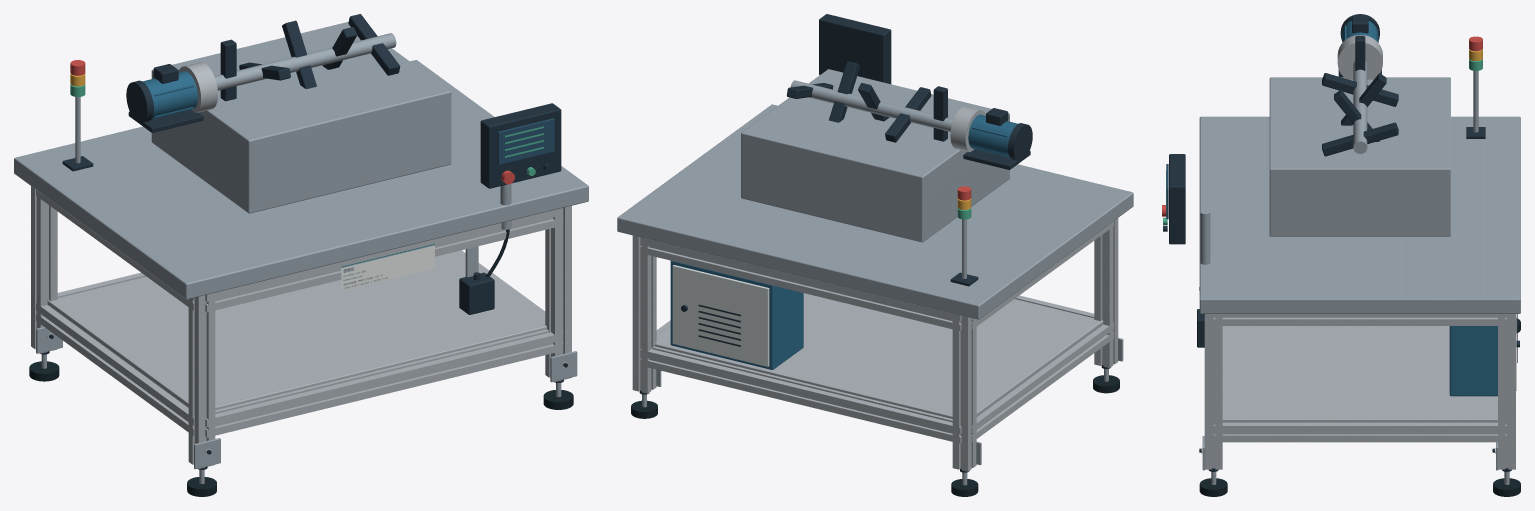
Rendered from internal-mixer-cell.glb.
3 renders of one model, left to right at view 1: azimuth 30°, elevation 25°; view 2: azimuth 150°, elevation 25°; view 3: azimuth 270°, elevation 25°, orthographic. The views are drawn at different scales.
Parts seen in each view (by area): view 1: ClosedMachineBed_40, LowerShelf_41, MixerTrough_71, SlottedExtrusion_34, SlottedExtrusion_35, SlottedExtrusion_11, SlottedExtrusion_36, ConsoleBack_52, SlottedExtrusion_27, SlottedExtrusion_3, OriginalNameplate_65, RotorShaft_72 (+12 smaller); view 2: ClosedMachineBed_40, MixerTrough_71, LowerShelf_41, BackDoor_43, SlottedExtrusion_32, SlottedExtrusion_33, ConsoleBack_52, SlottedExtrusion_3, SlottedExtrusion_19, Cabinet_42, SlottedExtrusion_36, SlottedExtrusion_11 (+9 smaller); view 3: ClosedMachineBed_40, MixerTrough_71, LowerShelf_41, SlottedExtrusion_38, Cabinet_42, SlottedExtrusion_39, SlottedExtrusion_27, SlottedExtrusion_19, ConsoleBack_52, Gearbox_81, RotorShaft_72, MixingBlade_77 (+6 smaller).
Part boxes in pixels (x1,y1,x2,y2): ClosedMachineBed_40: (14,60,588,299); LowerShelf_41: (47,252,546,410); MixerTrough_71: (151,22,451,213); SlottedExtrusion_34: (205,329,563,437); SlottedExtrusion_35: (205,208,563,312); SlottedExtrusion_11: (188,293,215,468); SlottedExtrusion_36: (36,303,194,435); ConsoleBack_52: (480,103,561,188); SlottedExtrusion_27: (545,205,571,381); SlottedExtrusion_3: (31,186,57,353); OriginalNameplate_65: (341,244,434,290); RotorShaft_72: (214,33,396,90); ClosedMachineBed_40: (617,104,1133,319); MixerTrough_71: (741,69,1009,242); LowerShelf_41: (655,293,1103,418); BackDoor_43: (672,265,769,366); SlottedExtrusion_32: (640,346,961,443); SlottedExtrusion_33: (640,237,961,331); ConsoleBack_52: (819,14,891,83); SlottedExtrusion_3: (952,313,976,471); SlottedExtrusion_19: (632,235,656,393); Cabinet_42: (670,260,803,369); SlottedExtrusion_36: (971,322,1113,442); SlottedExtrusion_11: (1094,218,1118,367); ClosedMachineBed_40: (1199,116,1520,313); MixerTrough_71: (1269,77,1450,236); LowerShelf_41: (1222,326,1497,422); SlottedExtrusion_38: (1213,422,1506,442); Cabinet_42: (1449,326,1497,396); SlottedExtrusion_39: (1213,314,1506,325); SlottedExtrusion_27: (1204,314,1222,469); SlottedExtrusion_19: (1498,314,1515,469); ConsoleBack_52: (1169,154,1185,244); Gearbox_81: (1337,34,1382,79); RotorShaft_72: (1353,61,1367,153); MixingBlade_77: (1322,122,1398,156).
Bounding box in the file's own units: 1.55 × 1.34 × 1.29.
Materials: 11 (3 with a texture image).
